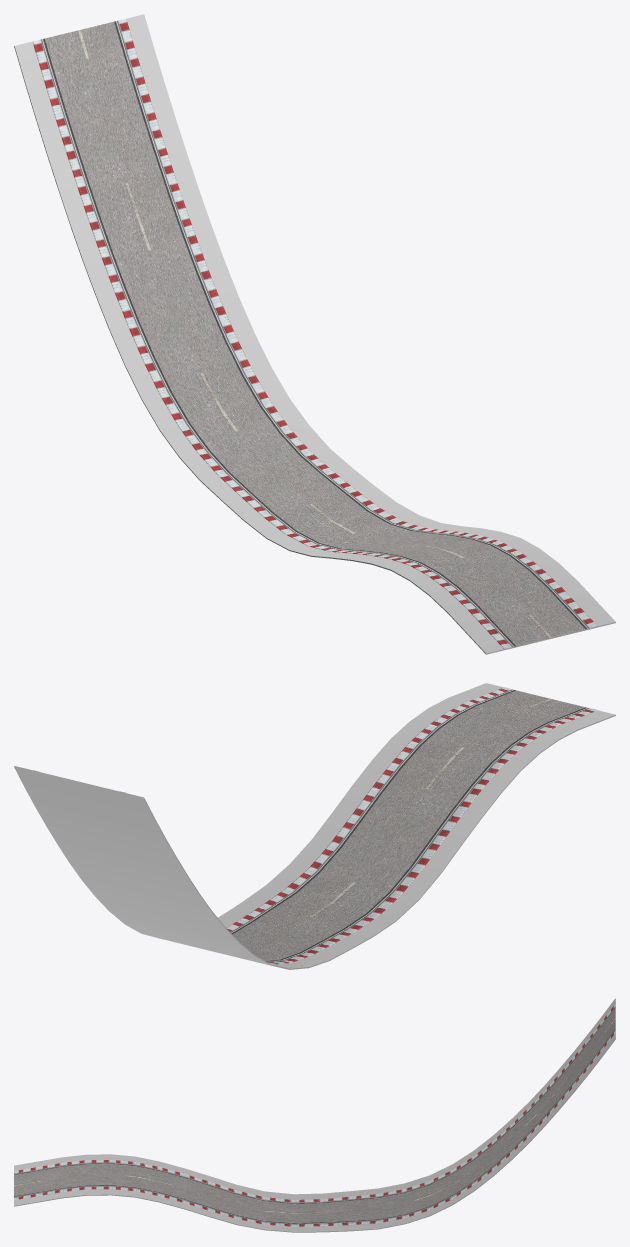
File: track3.1.fbx
The picture shows the model from 3 angles, top to bottom: view 1: azimuth 30°, elevation 25°; view 2: azimuth 150°, elevation 25°; view 3: azimuth 270°, elevation 25°; orthographic projection. The views are drawn at different scales.
Parts seen in each view (by area): view 1: track3_1; view 2: track3_1; view 3: track3_1.
Boxes of the visible parts, <box> form: track3_1: <box>14,14,615,654</box>; track3_1: <box>14,683,615,969</box>; track3_1: <box>14,998,615,1232</box>.
Bounding box in the file's own units: 4685 × 10663 × 29529.
